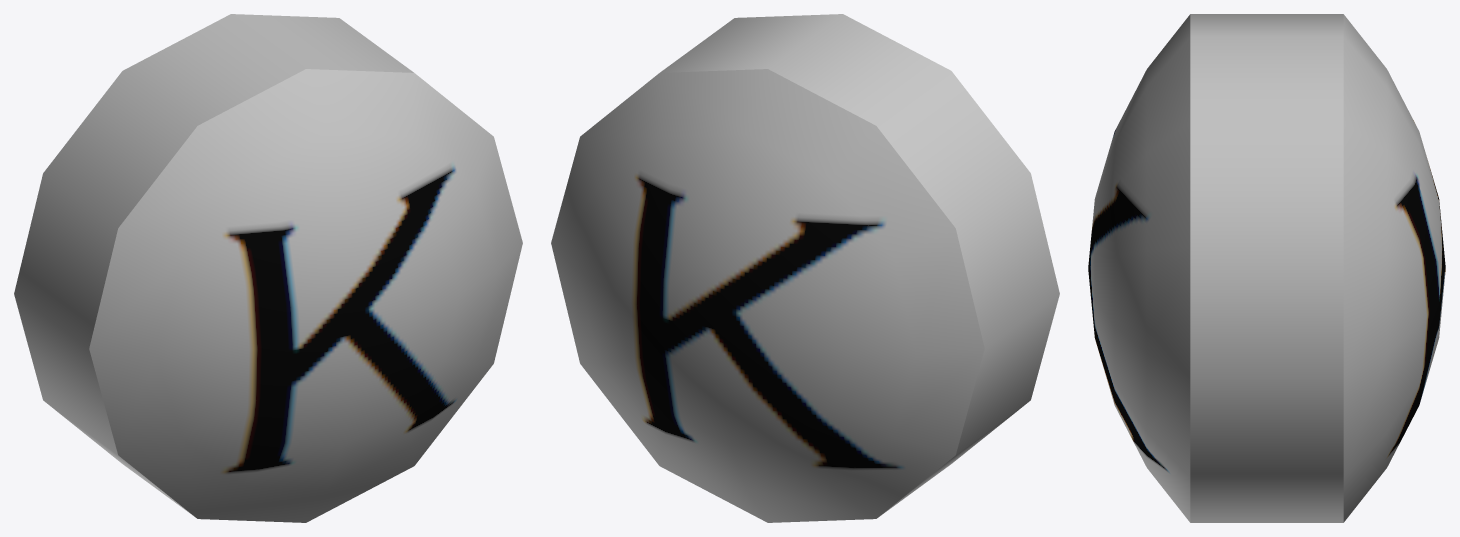
Rendered from Klonopin.FBX.
3 views of the same model, side by side, from view 1: azimuth 30°, elevation 25°; view 2: azimuth 150°, elevation 25°; view 3: azimuth 270°, elevation 25° (orthographic).
Parts seen in each view (by area): view 1: Klonopin; view 2: Klonopin; view 3: Klonopin.
Part boxes in pixels (x1=…): Klonopin: x1=14, y1=14, x2=522, y2=522; Klonopin: x1=551, y1=14, x2=1059, y2=522; Klonopin: x1=1088, y1=14, x2=1445, y2=522.
Size of the model in its own units: 1.82 by 1.82 by 1.27.
1 material, 1 textured.
